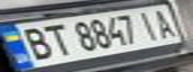4: (106, 15, 130, 47)
7: (118, 11, 142, 45)
8: (69, 18, 97, 52), (90, 16, 112, 50)
A: (148, 7, 181, 38)
B: (9, 25, 57, 61)
I: (133, 8, 163, 41)
T: (36, 21, 75, 56)
